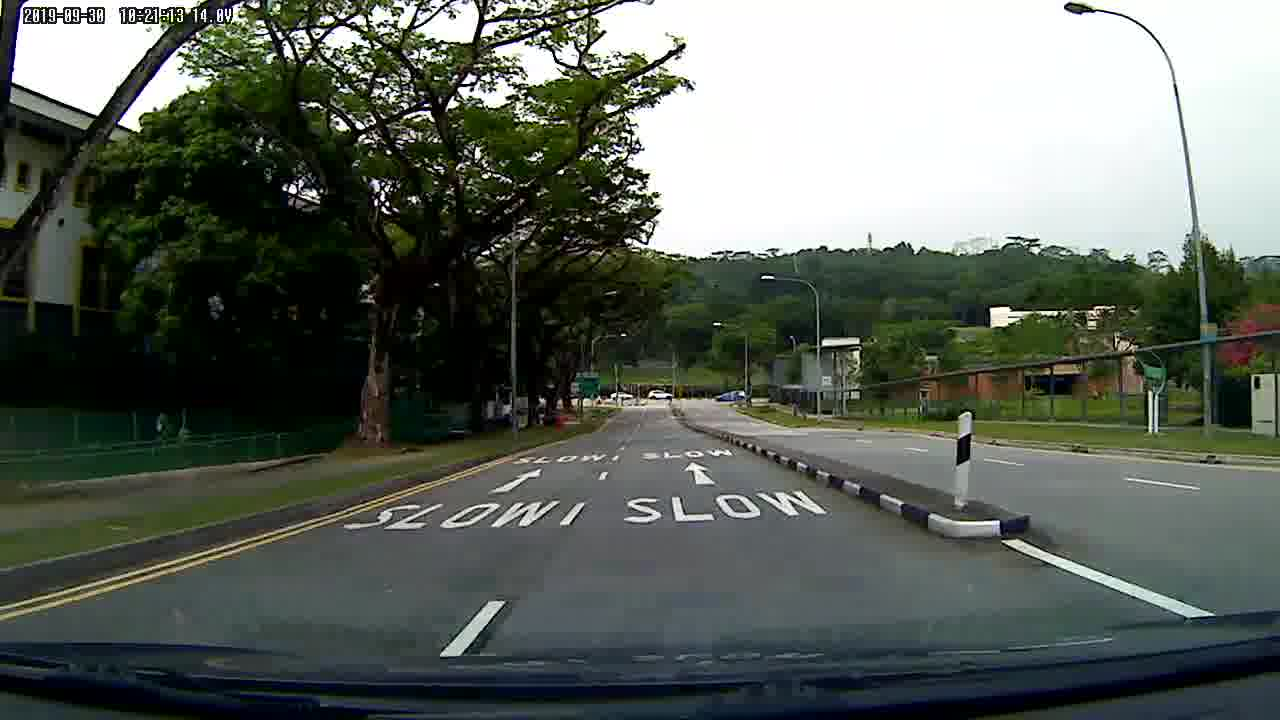car: (713, 388, 748, 404), (612, 388, 634, 403), (646, 388, 673, 400)
